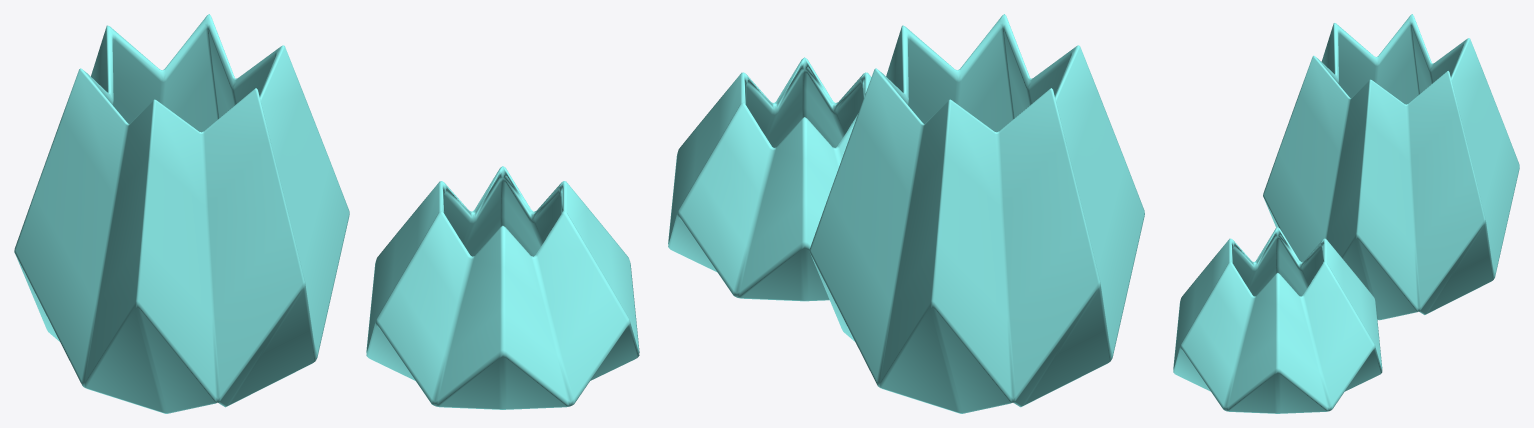
The model's file is vase.obj.
3 renders of one model, left to right at view 1: azimuth 30°, elevation 25°; view 2: azimuth 150°, elevation 25°; view 3: azimuth 270°, elevation 25°, orthographic. The views are drawn at different scales.
Parts seen in each view (by area): view 1: vase1, vase2; view 2: vase1, vase2; view 3: vase1, vase2.
Part boxes in pixels (x1,y1,x2,y2): vase1: (14,14,349,413); vase2: (366,166,639,409); vase1: (809,14,1144,413); vase2: (668,57,871,301); vase1: (1263,14,1519,320); vase2: (1173,227,1382,413).
Size of the model in its own units: 57.39 by 35.06 by 43.35.
